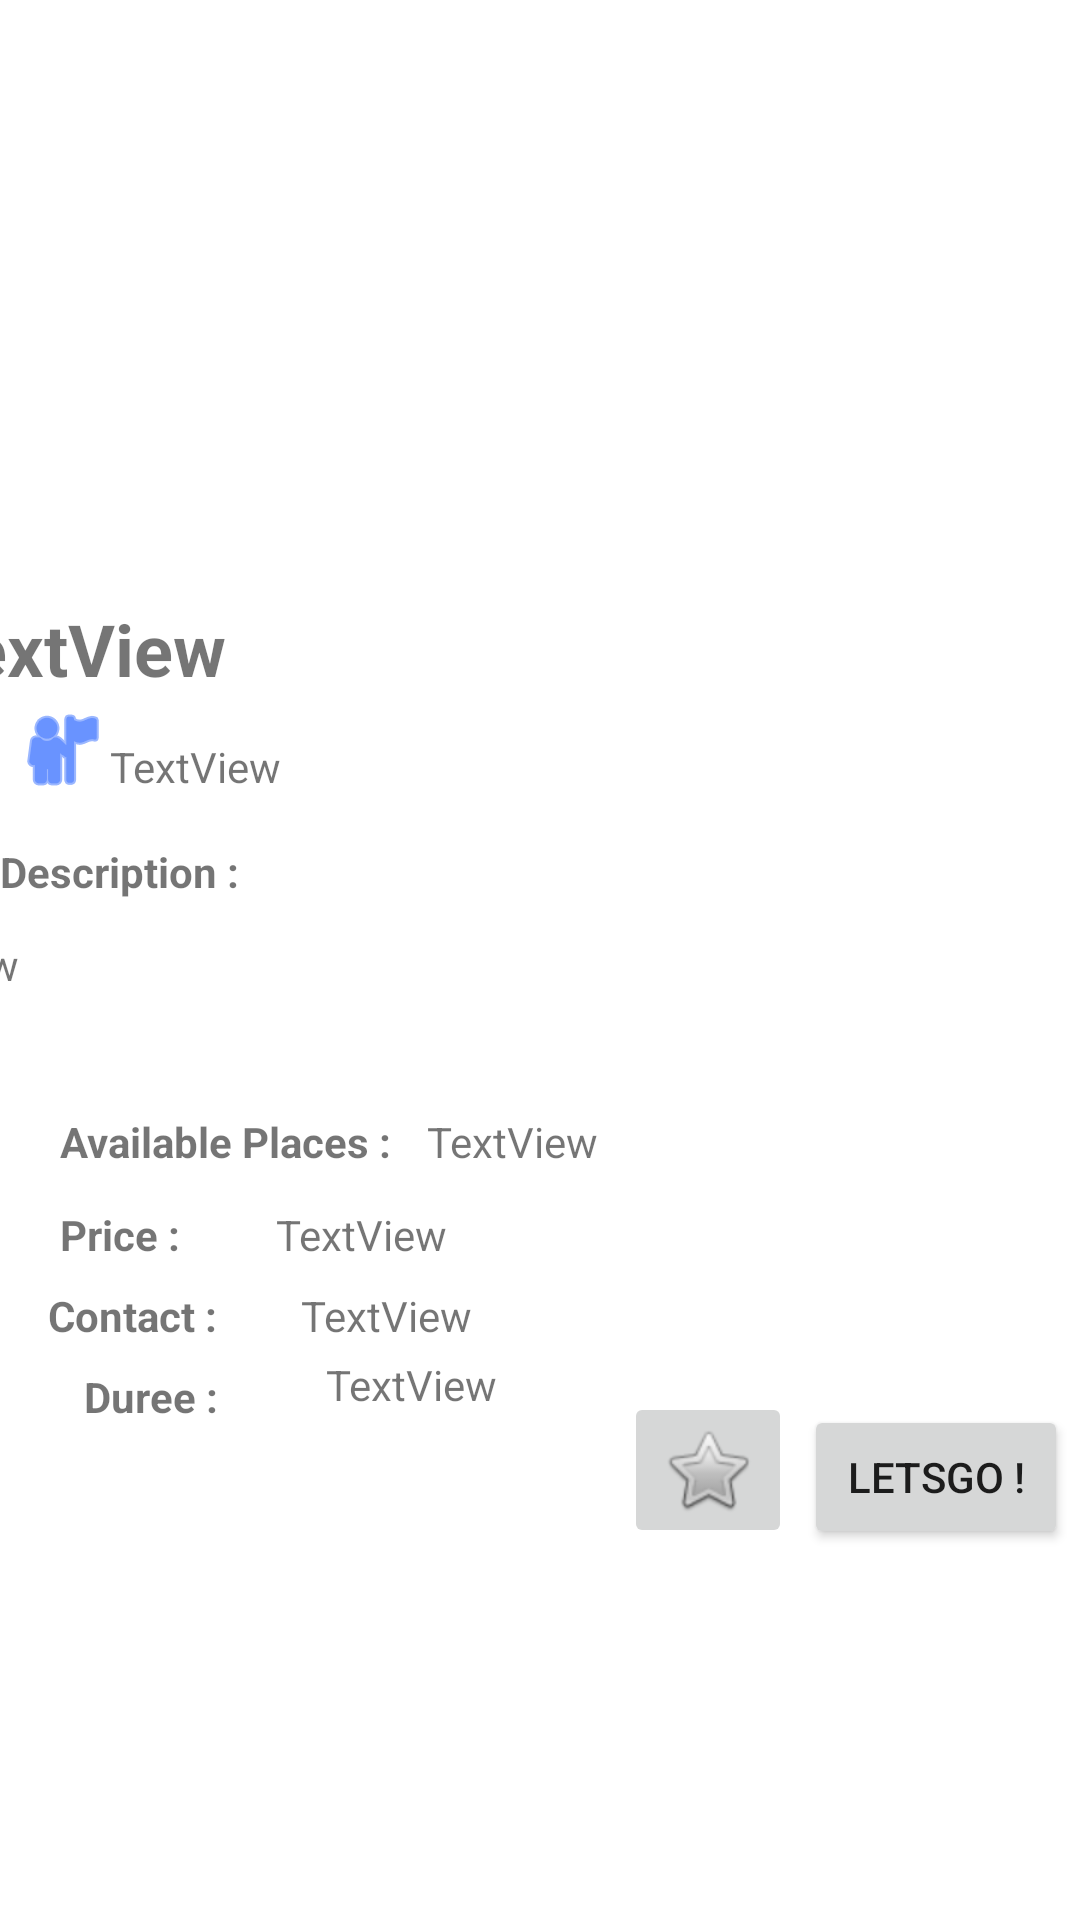

Named icons in this screenshot (1080 x 1920) and their bounding boxes, {"left": x1, "top": y1, "right": x2, "bottom": y2}:
myplaces: {"left": 27, "top": 714, "right": 99, "bottom": 786}
star: {"left": 636, "top": 1410, "right": 780, "bottom": 1530}
